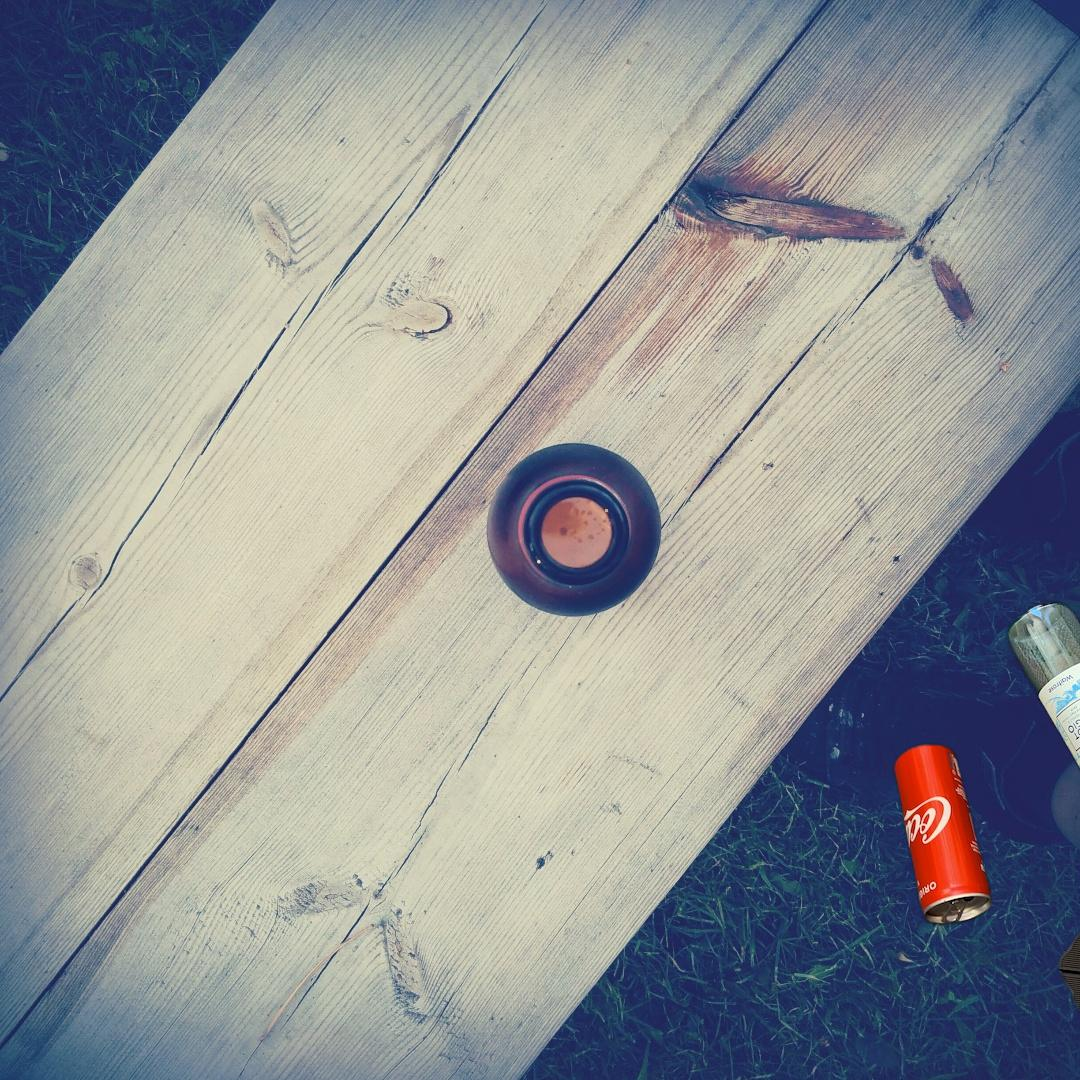glass: (1002, 595, 1080, 884)
metal-cans: (889, 738, 997, 931)
plastic-bottles: (1055, 609, 1080, 1080)
